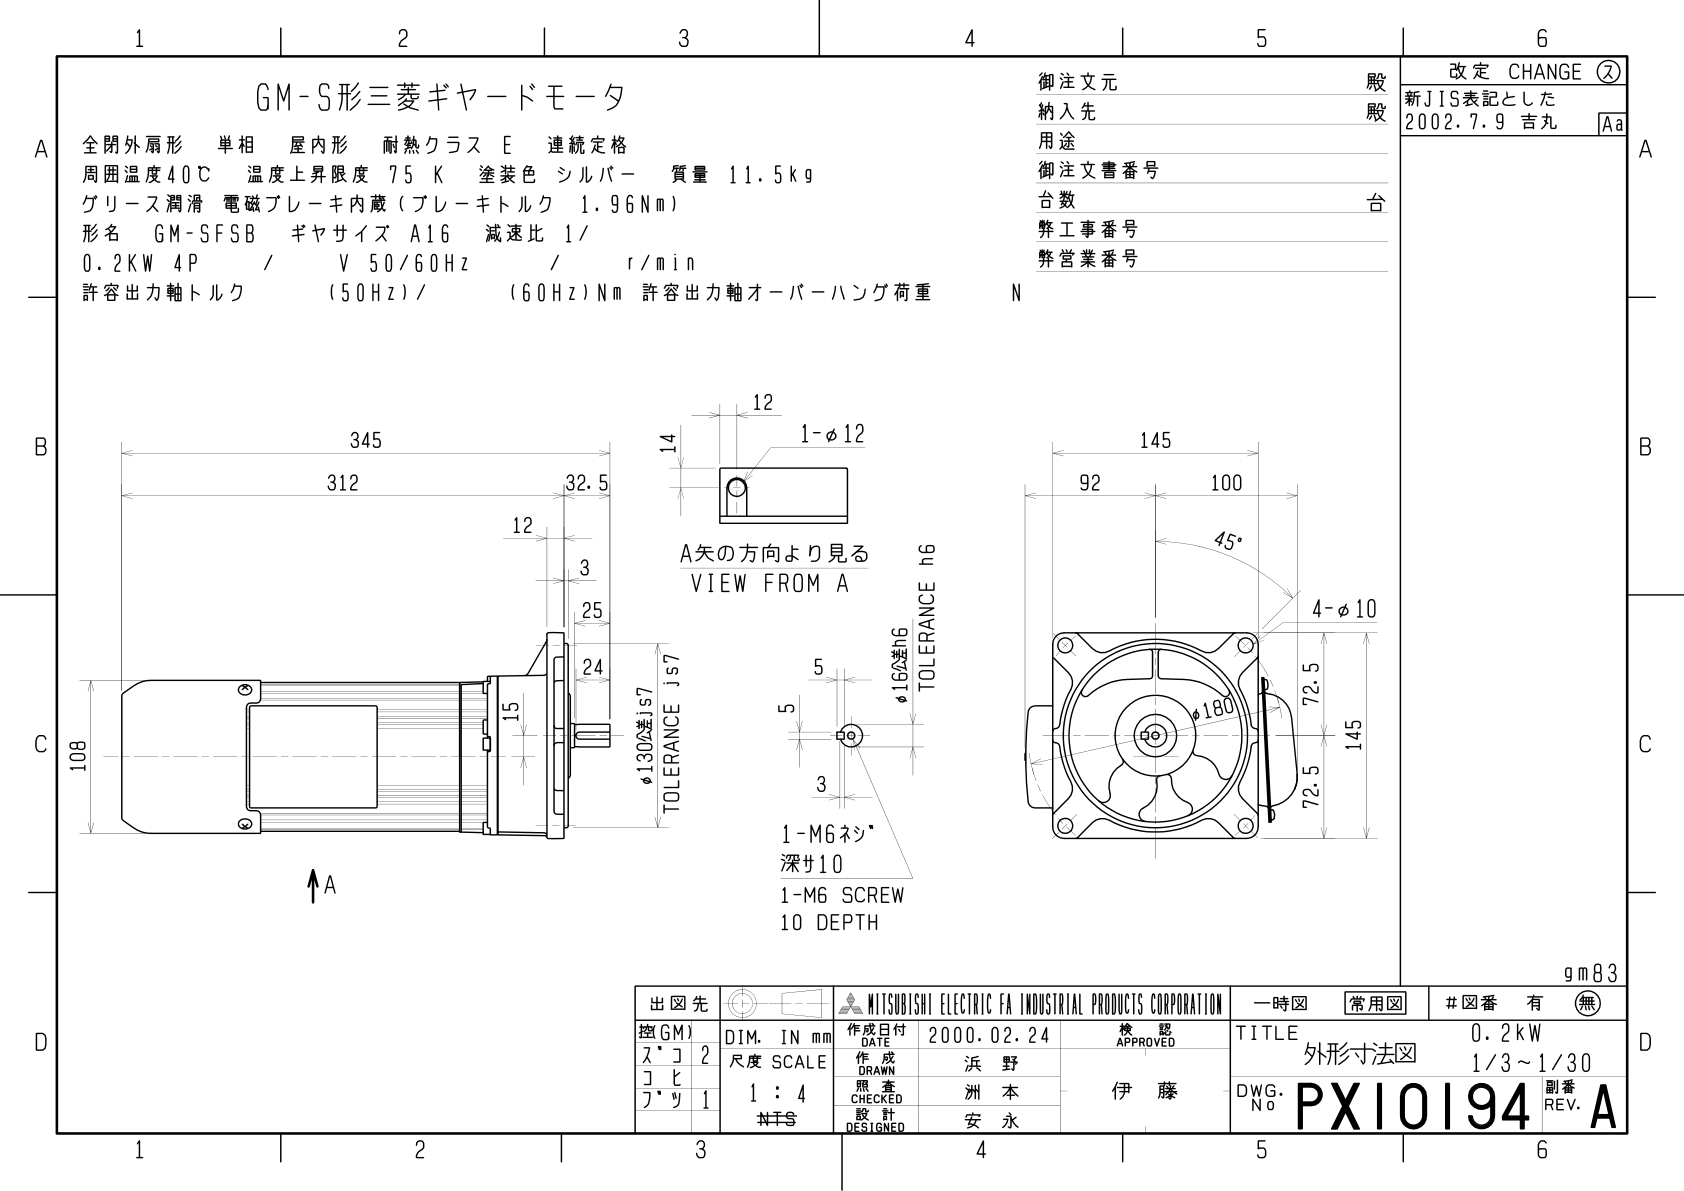GM_S_屋内＿単相_フランジ: (12, 10, 1684, 1191)
